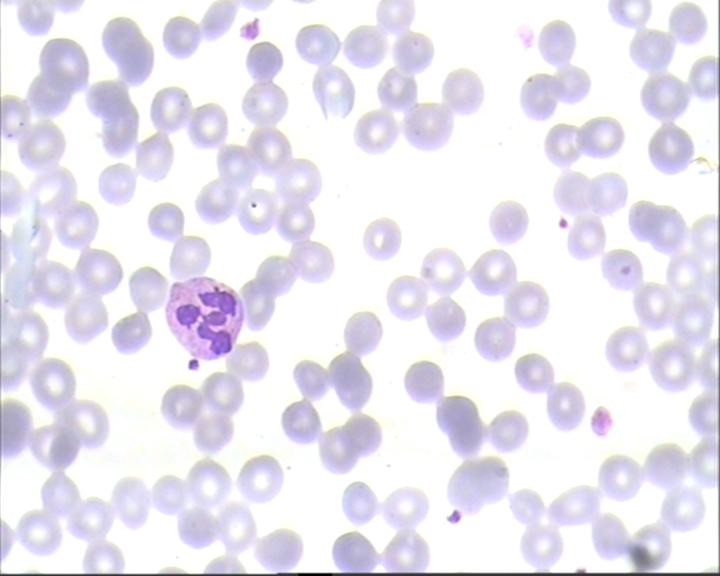neut: (162, 277, 246, 362)
